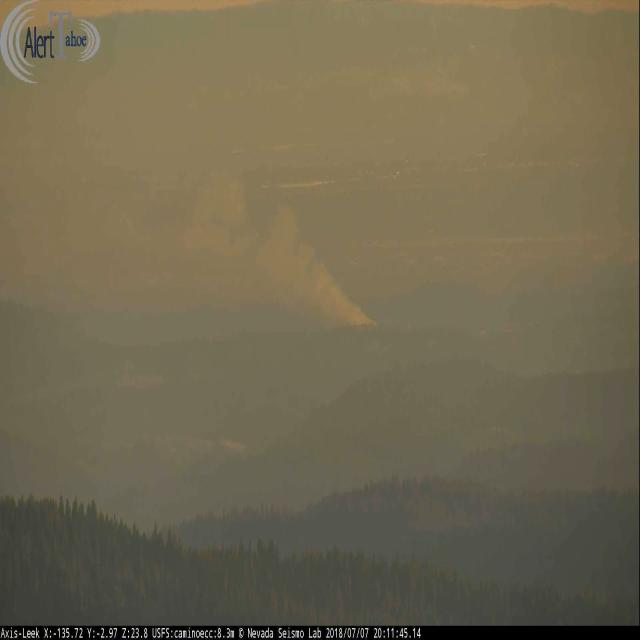smoke: (259, 202, 379, 332)
